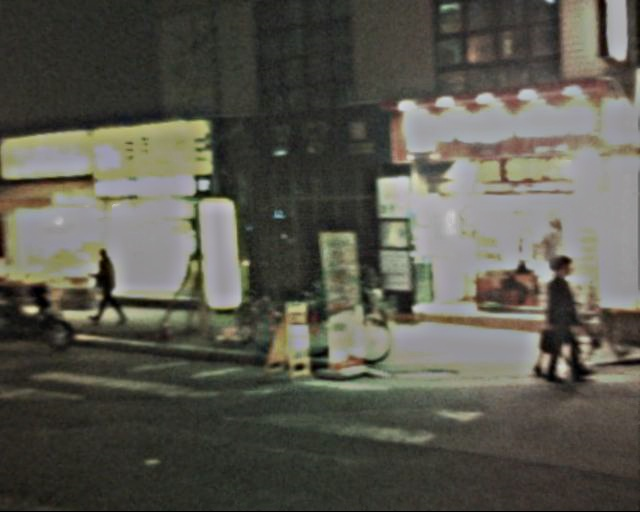person: (516, 251, 589, 386), (78, 244, 123, 326)
